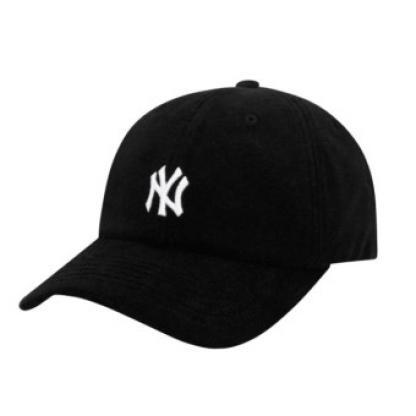cap: (19, 72, 386, 351)
